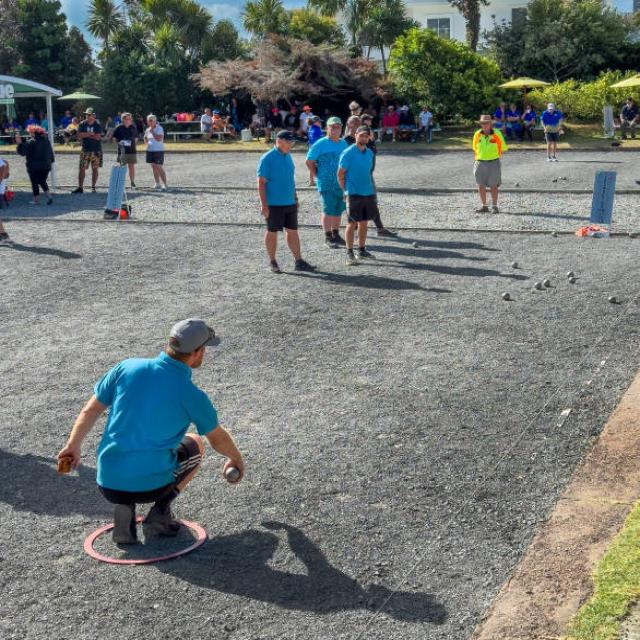petanque: (221, 467, 241, 486)
